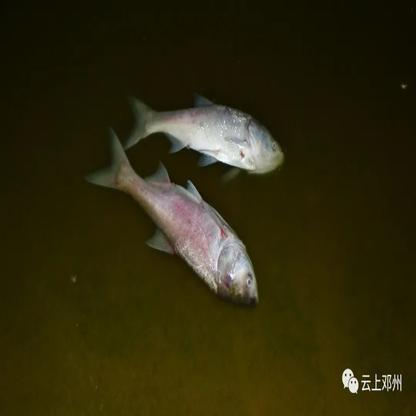deceased fish: (90, 130, 260, 307), (125, 89, 284, 181)
